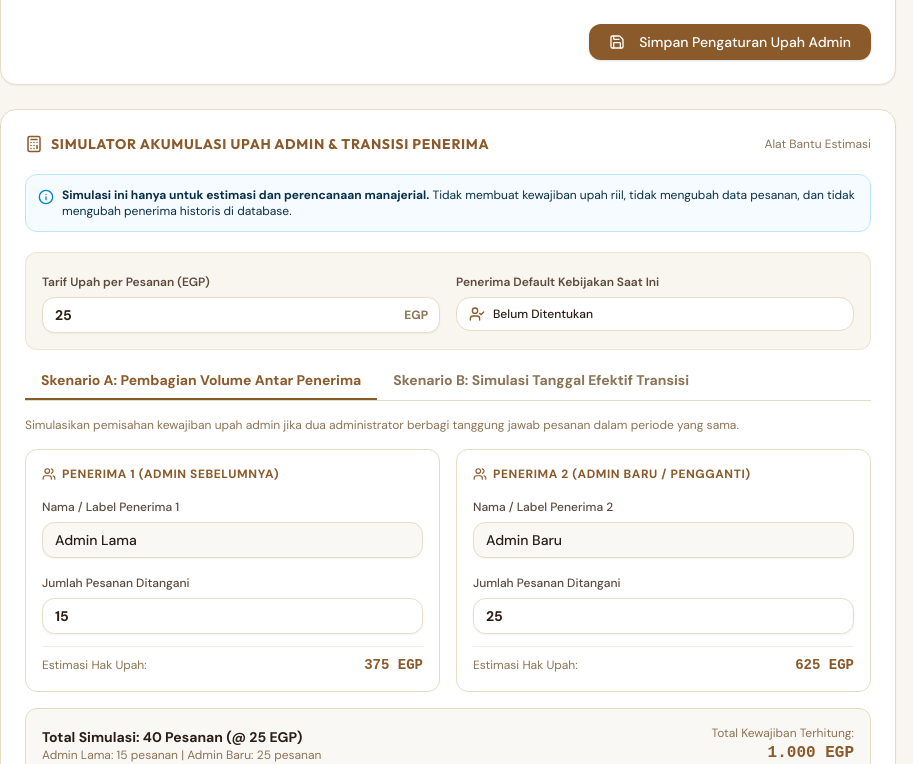
Test: AdminWageSettings - Centralized Multi-Category Wage Settings UI › 11. Admin Wage Simulator supports Scenario A volume split and Scenario B effective date
(page scrolled)
Click the button "Skenario B: Simulasi Tanggal Efektif Transisi": (541, 384) x1=377 y1=370 x2=705 y2=400
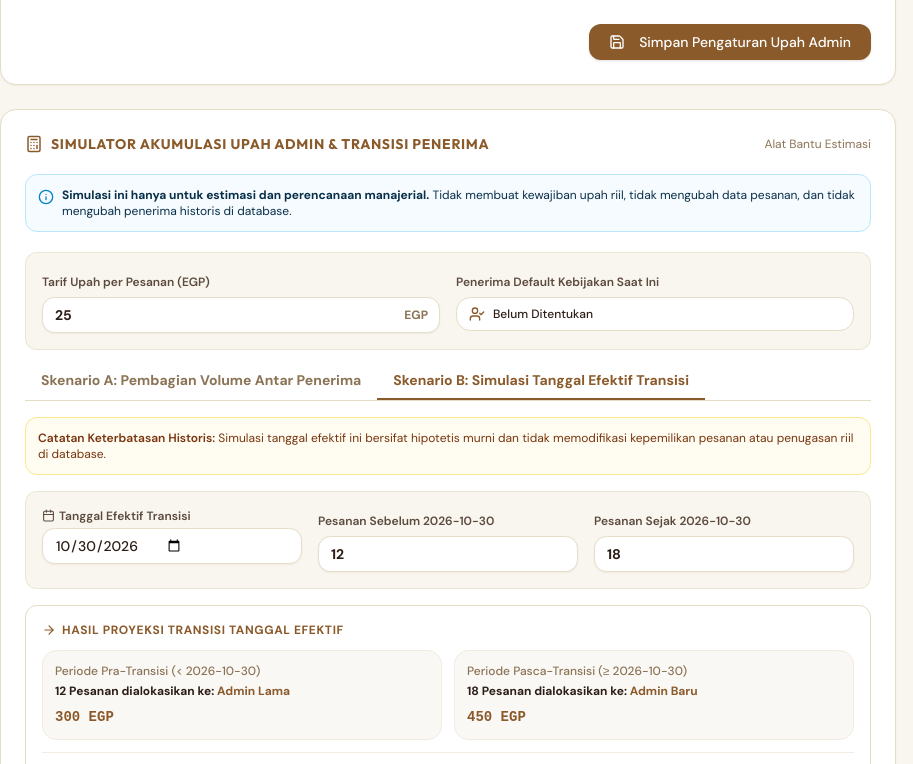
Expected: the text "Catatan Keterbatasan Historis" is shown, x1=38 y1=430 x2=215 y2=446
Expected: the text "Hasil Proyeksi Transisi Tanggal Efektif" is shown, x1=42 y1=622 x2=344 y2=638
